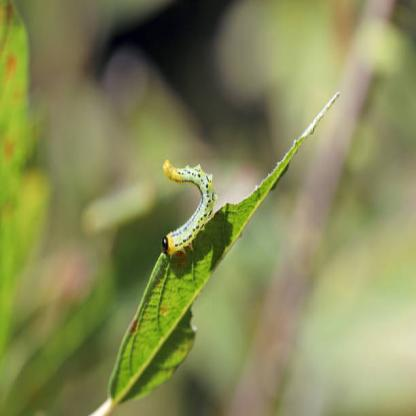sawfly: (157, 155, 220, 263)
